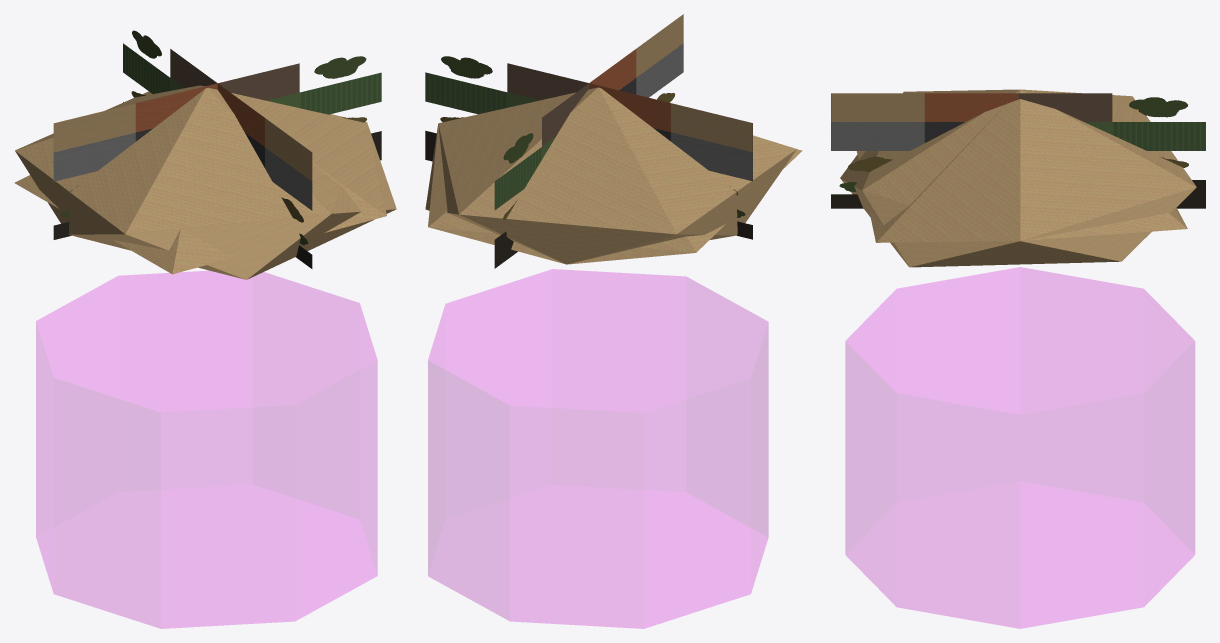
The model's file is rock_small_tan_b.dae.
3 renders of one model, left to right at view 1: azimuth 30°, elevation 25°; view 2: azimuth 150°, elevation 25°; view 3: azimuth 270°, elevation 25°, orthographic.
Parts seen in each view (by area): view 1: Colmesh_rock-1, rock_small_tan_b_a800, rock_small_tan_b_a50, rock_small_tan_b_a200; view 2: Colmesh_rock-1, rock_small_tan_b_a800, rock_small_tan_b_a50, rock_small_tan_b_a200; view 3: Colmesh_rock-1, rock_small_tan_b_a800, rock_small_tan_b_a50, rock_small_tan_b_a200.
Part boxes in pixels (left/top/right/bottom): Colmesh_rock-1: left=36, top=271, right=377, bottom=628; rock_small_tan_b_a800: left=15, top=85, right=396, bottom=279; rock_small_tan_b_a50: left=53, top=30, right=381, bottom=268; rock_small_tan_b_a200: left=14, top=88, right=386, bottom=274; Colmesh_rock-1: left=428, top=269, right=768, bottom=628; rock_small_tan_b_a800: left=425, top=87, right=796, bottom=264; rock_small_tan_b_a50: left=425, top=14, right=752, bottom=268; rock_small_tan_b_a200: left=428, top=124, right=802, bottom=264; Colmesh_rock-1: left=845, top=267, right=1194, bottom=628; rock_small_tan_b_a800: left=840, top=89, right=1196, bottom=267; rock_small_tan_b_a50: left=831, top=93, right=1205, bottom=208; rock_small_tan_b_a200: left=857, top=90, right=1187, bottom=242.
Size of the model in its own units: 0.4822 by 0.4822 by 0.6625.
2 materials, 1 textured.
